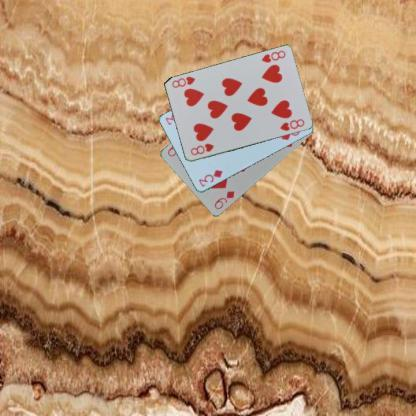3d: (196, 167, 224, 188)
8h: (188, 141, 215, 157), (259, 48, 286, 64)
9d: (211, 188, 236, 211)
